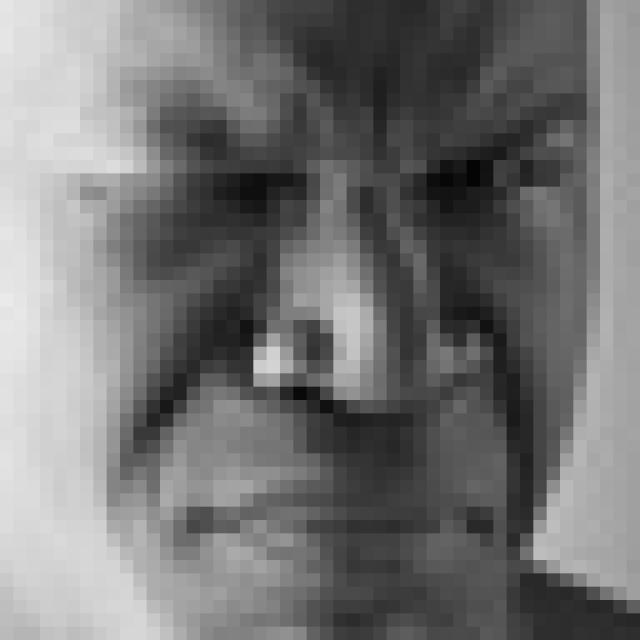disgust: (52, 88, 587, 620)
